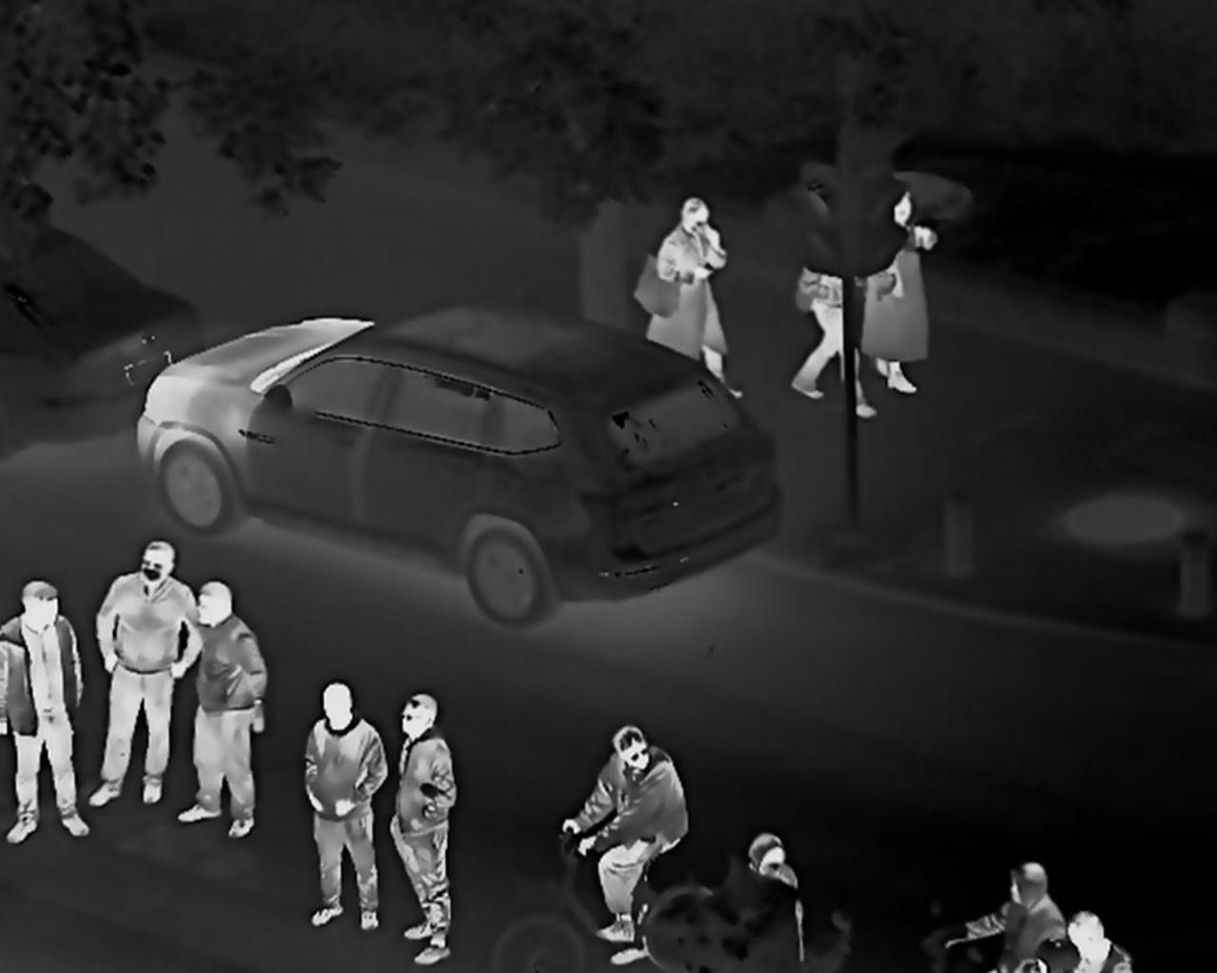person: (592, 730, 712, 973), (630, 192, 748, 414), (385, 677, 476, 958), (104, 531, 193, 792), (195, 578, 274, 867), (289, 678, 365, 949), (866, 168, 928, 408), (785, 197, 844, 394), (976, 874, 1045, 973), (752, 840, 797, 950), (1059, 892, 1099, 973)
